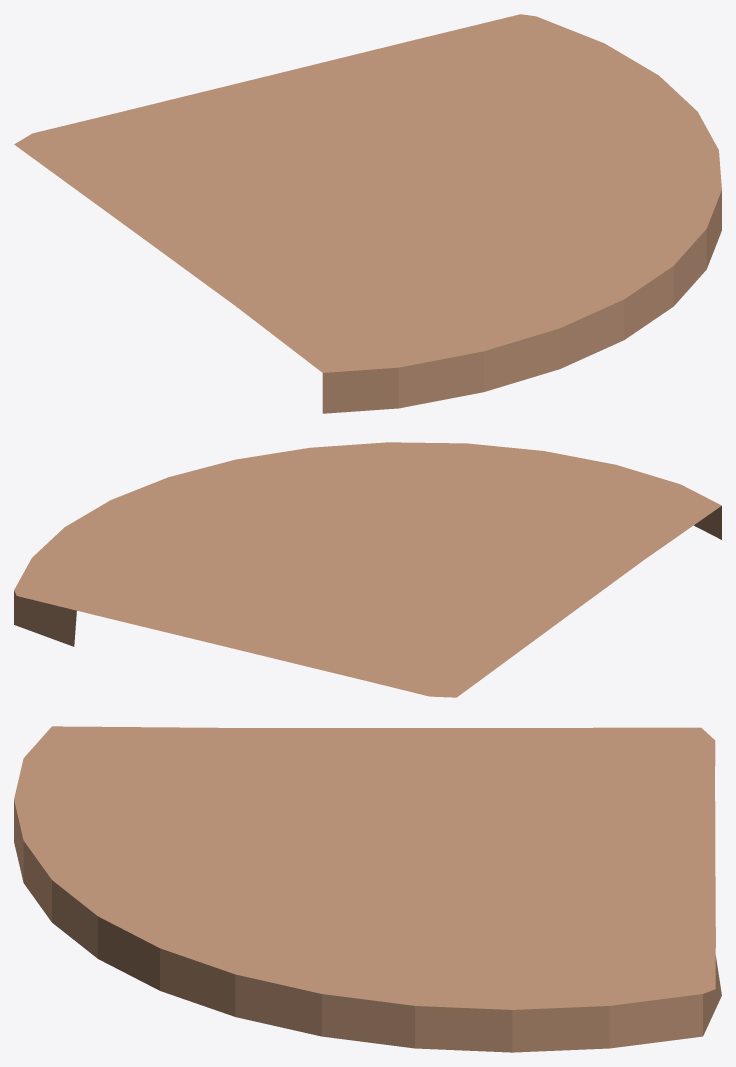
Rendered from New_Corner_Platform.fbx.
3 renders of one model, top to bottom at view 1: azimuth 30°, elevation 25°; view 2: azimuth 150°, elevation 25°; view 3: azimuth 270°, elevation 25°, orthographic. The views are drawn at different scales.
Visible parts, largest first — view 1: New_plafrom; view 2: New_plafrom; view 3: New_plafrom.
Boxes of the visible parts, <box> form: New_plafrom: <box>14,14,721,413</box>; New_plafrom: <box>14,442,721,697</box>; New_plafrom: <box>14,726,721,1052</box>.
Bounding box in the file's own units: 481 × 33.69 × 507.
